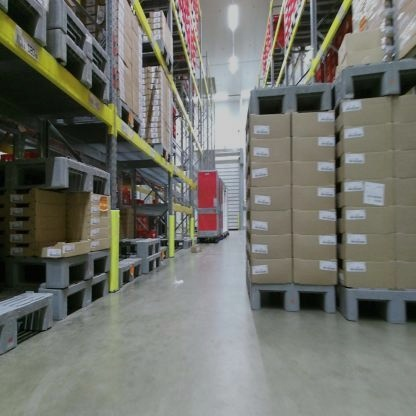pallets: (0, 155, 114, 199), (49, 1, 113, 71), (45, 39, 113, 104), (8, 246, 112, 288), (29, 274, 113, 319), (338, 59, 416, 105), (0, 289, 52, 356), (335, 284, 416, 327), (247, 279, 336, 315), (246, 84, 336, 115), (0, 0, 48, 48), (139, 39, 175, 78), (118, 98, 146, 136), (118, 235, 164, 257), (119, 256, 145, 290), (148, 140, 176, 165), (142, 254, 168, 275), (179, 238, 200, 254)
